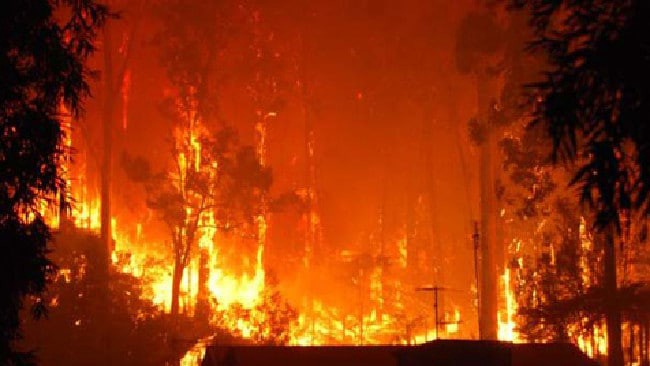fire: (122, 229, 272, 315), (289, 299, 400, 345), (65, 165, 103, 228), (498, 271, 523, 344)
smoke: (108, 2, 535, 153), (248, 156, 518, 281)
